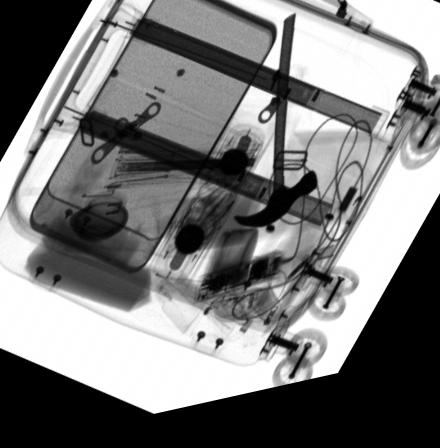Hammer: (231, 23, 317, 238)
